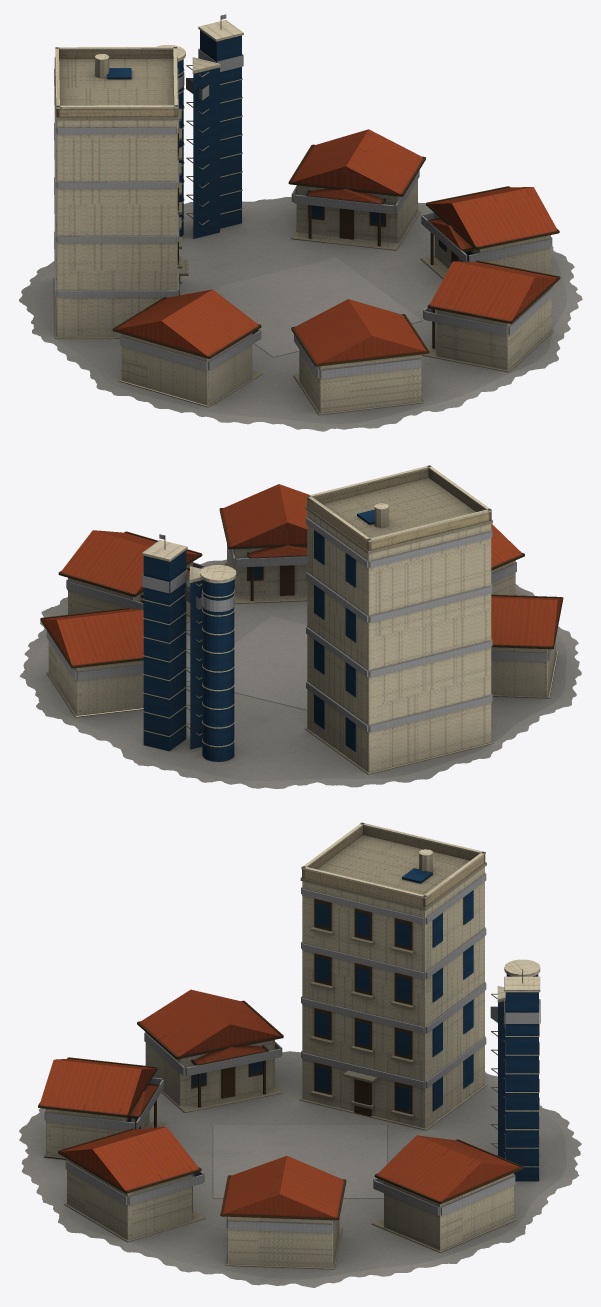
File: modern-town-small-a-israelite.glb
The picture shows the model from 3 angles, top to bottom: view 1: azimuth 30°, elevation 25°; view 2: azimuth 150°, elevation 25°; view 3: azimuth 270°, elevation 25°; orthographic projection.
Parts seen in each view (by area): view 1: LOD0; view 2: LOD0; view 3: LOD0.
Boxes of the visible parts, left/top/right/bottom form: LOD0: left=19, top=14, right=582, bottom=431; LOD0: left=19, top=465, right=581, bottom=788; LOD0: left=19, top=822, right=581, bottom=1287.
Size of what is drawn, in the model's own units: 3.99 by 1.87 by 3.96.
3 materials, 3 textured.
